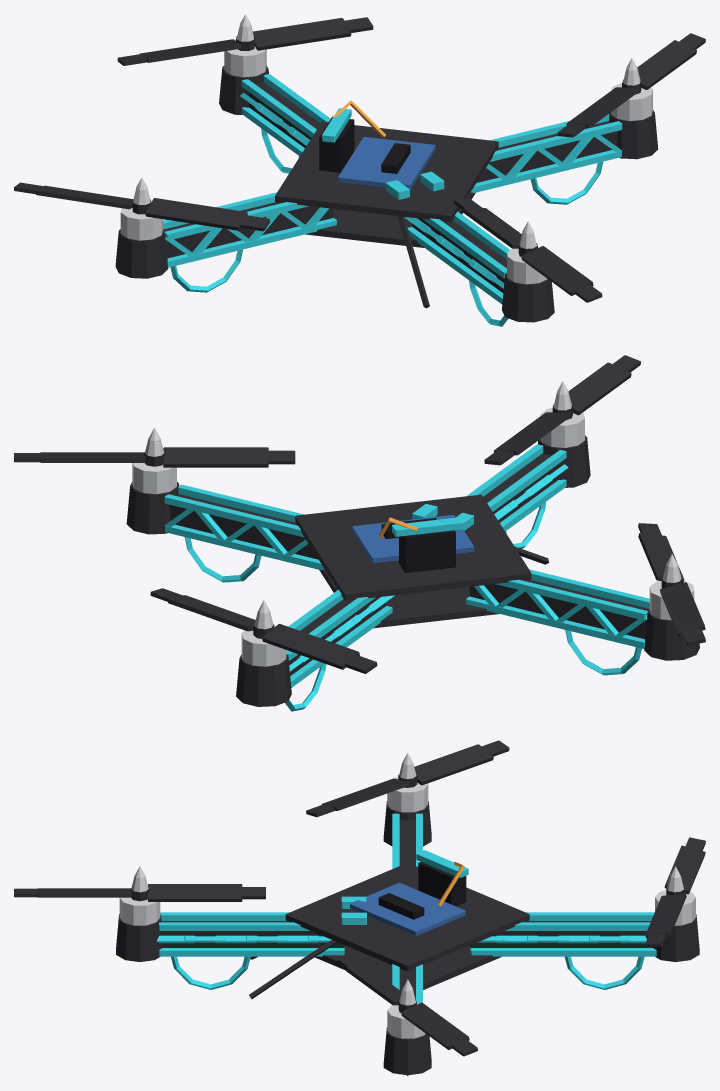
Rendered from drone.fbx.
3 views of the same model, one above another, from view 1: azimuth 30°, elevation 25°; view 2: azimuth 150°, elevation 25°; view 3: azimuth 270°, elevation 25° (orthographic). The views are drawn at different scales.
Parts seen in each view (by area): view 1: Corpo, Helice3, Helice2, Helice4, Helice1; view 2: Corpo, Helice1, Helice2, Helice4, Helice3; view 3: Corpo, Helice4, Helice3, Helice1, Helice2.
Boxes of the visible parts, x1=… form: Corpo: x1=115, y1=39, x2=658, y2=326; Helice3: x1=14, y1=178, x2=269, y2=231; Helice2: x1=117, y1=14, x2=373, y2=65; Helice4: x1=454, y1=198, x2=602, y2=302; Helice1: x1=557, y1=33, x2=705, y2=137; Corpo: x1=126, y1=408, x2=699, y2=711; Helice1: x1=14, y1=427, x2=295, y2=467; Helice2: x1=150, y1=588, x2=377, y2=673; Helice4: x1=484, y1=355, x2=640, y2=465; Helice3: x1=638, y1=523, x2=705, y2=645; Corpo: x1=116, y1=777, x2=699, y2=1076; Helice4: x1=14, y1=866, x2=265, y2=901; Helice3: x1=306, y1=740, x2=509, y2=817; Helice1: x1=337, y1=957, x2=477, y2=1056; Helice2: x1=645, y1=837, x2=705, y2=947.
Size of the model in its own units: 0.4672 by 0.087 by 0.4393.
Materials: 1 (1 with a texture image).
